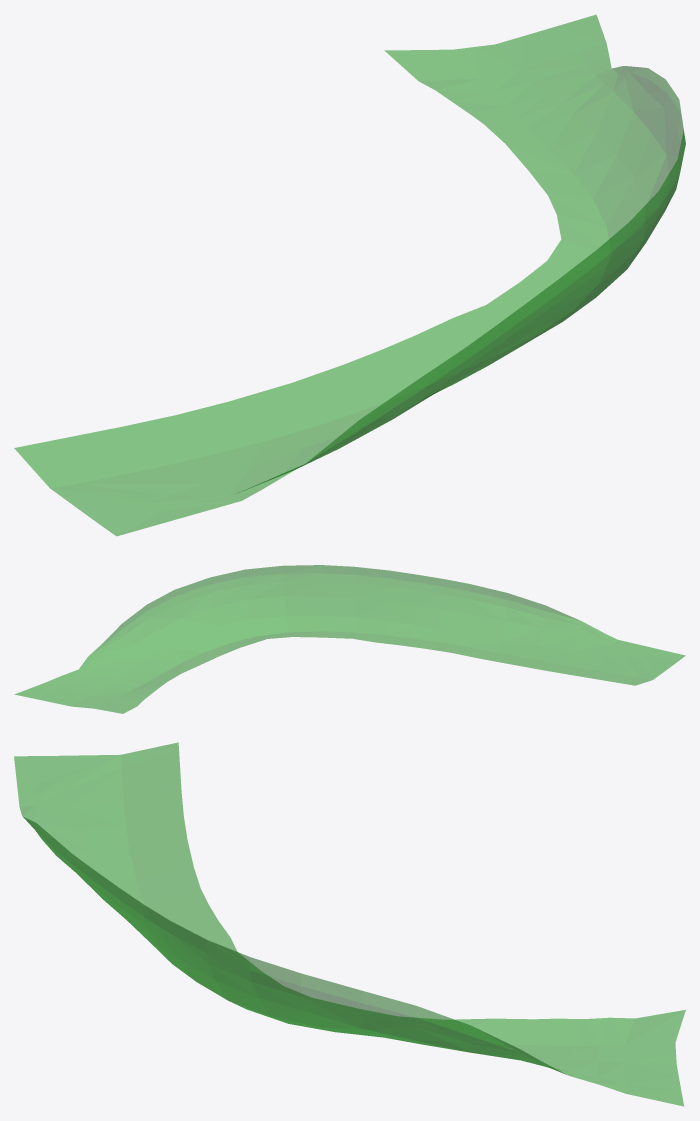
Rendered from quicksand.obj.
3 renders of one model, top to bottom at view 1: azimuth 30°, elevation 25°; view 2: azimuth 150°, elevation 25°; view 3: azimuth 270°, elevation 25°, orthographic. The views are drawn at different scales.
Size of the model in its own units: 200 by 23.57 by 159.
